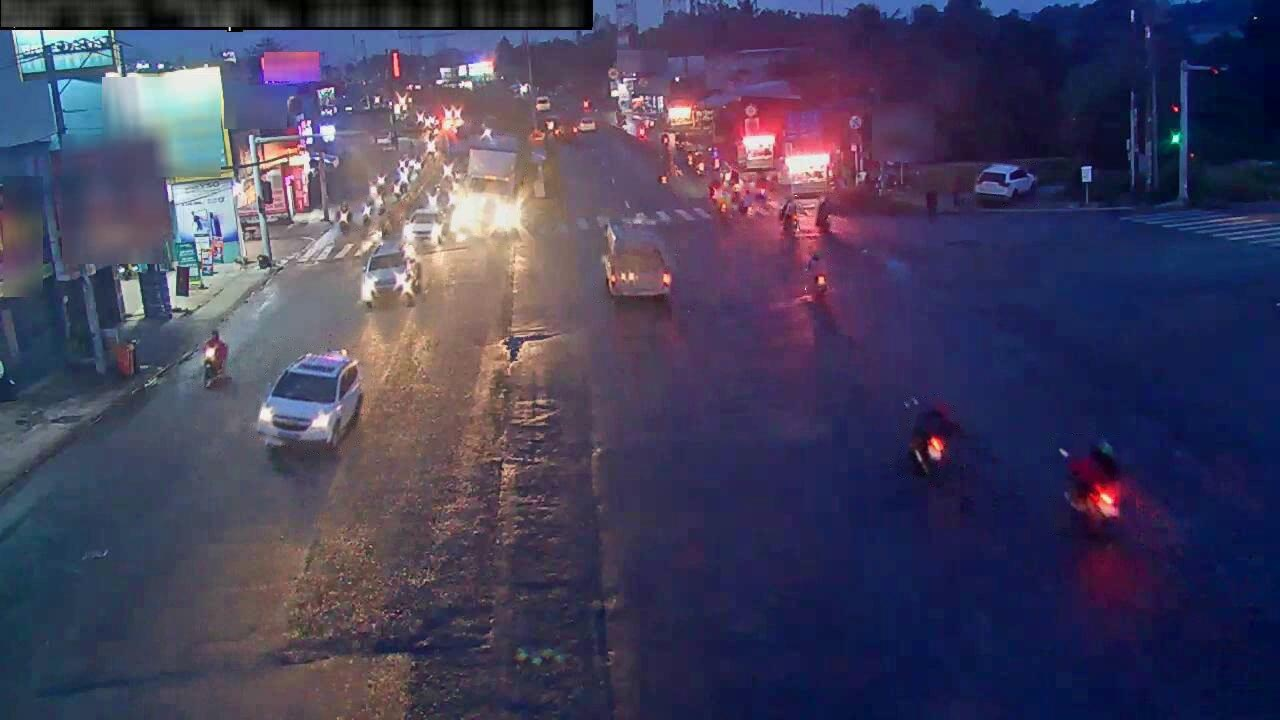Car: (256, 349, 363, 448), (1059, 441, 1123, 534), (602, 220, 672, 299), (360, 245, 418, 309), (974, 164, 1036, 203), (402, 209, 443, 245)
Motorcyclist: (904, 398, 959, 477), (201, 330, 228, 388), (805, 252, 828, 295), (779, 198, 798, 233), (815, 198, 831, 231), (739, 188, 755, 216), (715, 188, 730, 217), (337, 202, 351, 233), (361, 196, 375, 225), (374, 186, 387, 215), (756, 175, 768, 200)
Truck: (467, 135, 519, 196)
